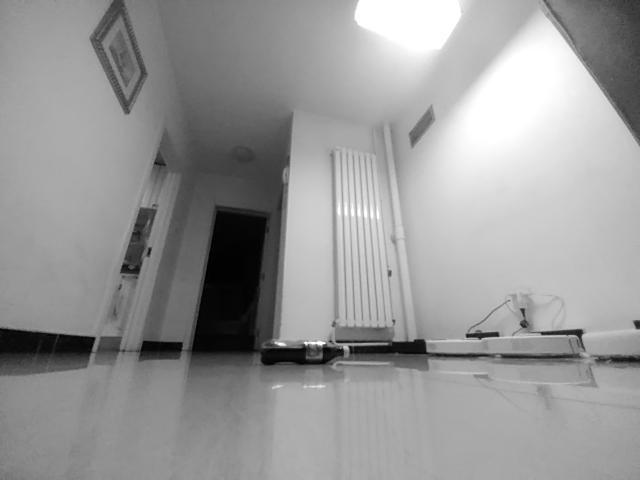others: (259, 338, 350, 367)
